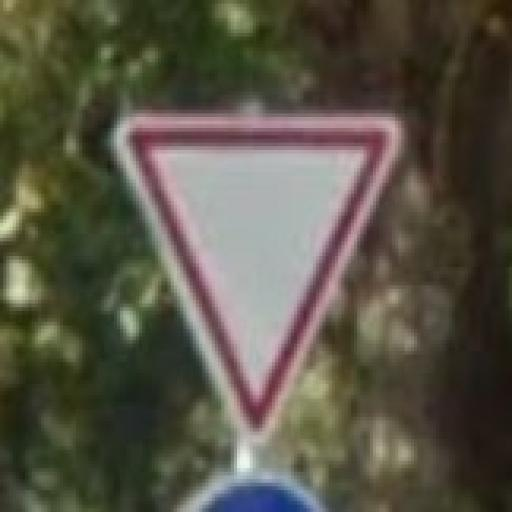traffic_sign: (109, 111, 409, 444)
